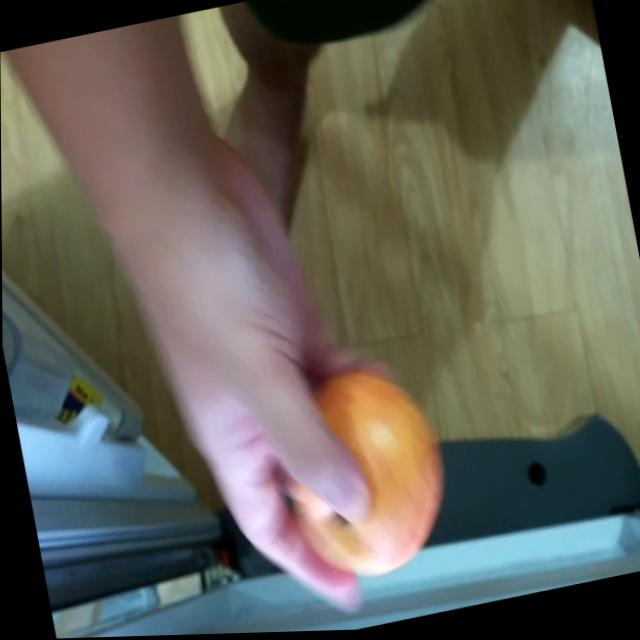apple: (259, 359, 459, 597)
